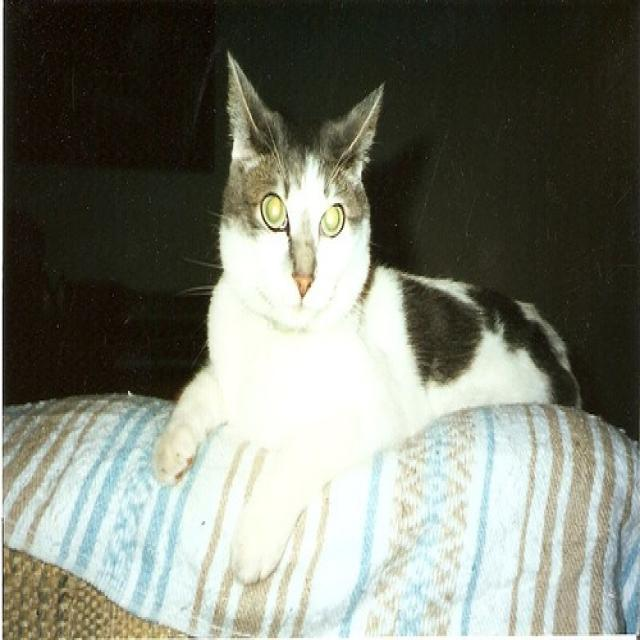cat: (150, 44, 584, 581)
